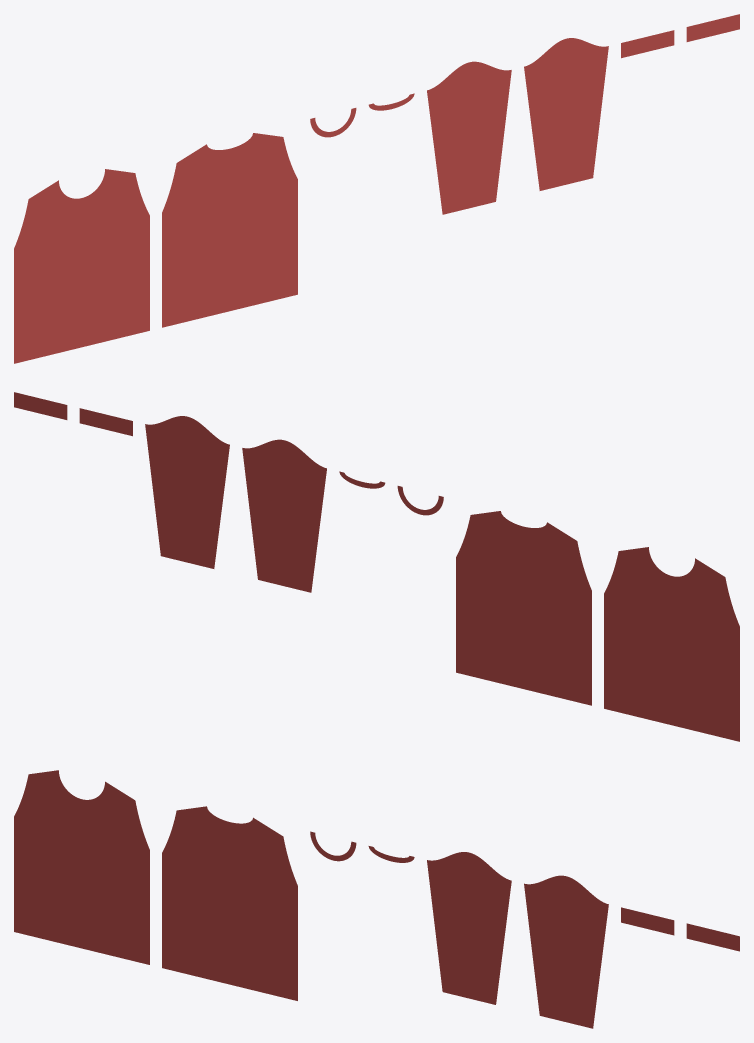
The model's file is camisa-interior-cepillado-talla-M.glb.
3 views of the same model, one above another, from view 1: azimuth 30°, elevation 25°; view 2: azimuth 150°, elevation 25°; view 3: azimuth 330°, elevation 25° (orthographic).
Visible parts, largest first — view 1: patron-espalda, patron-delantero, patron-manga-izq, patron-manga-der, patron-puno-izq, patron-puno-der; view 2: patron-espalda, patron-delantero, patron-manga-izq, patron-manga-der, patron-puno-izq, patron-puno-der; view 3: patron-espalda, patron-delantero, patron-manga-der, patron-manga-izq, patron-puno-der, patron-puno-izq.
Boxes of the visible parts, x1,y1,x2,y2 form: patron-espalda: (162,133,297,327); patron-delantero: (14,169,149,363); patron-manga-izq: (427,61,511,214); patron-manga-der: (524,38,608,190); patron-puno-izq: (621,30,674,58); patron-puno-der: (686,14,739,41); patron-espalda: (456,511,591,705); patron-delantero: (604,547,739,741); patron-manga-izq: (242,439,326,592); patron-manga-der: (145,416,229,568); patron-puno-izq: (79,408,132,436); patron-puno-der: (14,392,67,419); patron-espalda: (162,806,297,1000); patron-delantero: (14,770,149,964); patron-manga-der: (524,875,608,1028); patron-manga-izq: (427,852,511,1004); patron-puno-der: (686,923,739,951); patron-puno-izq: (621,907,674,935).
Bounding box in the file's own units: 2.99 × 0.75 × 0.
